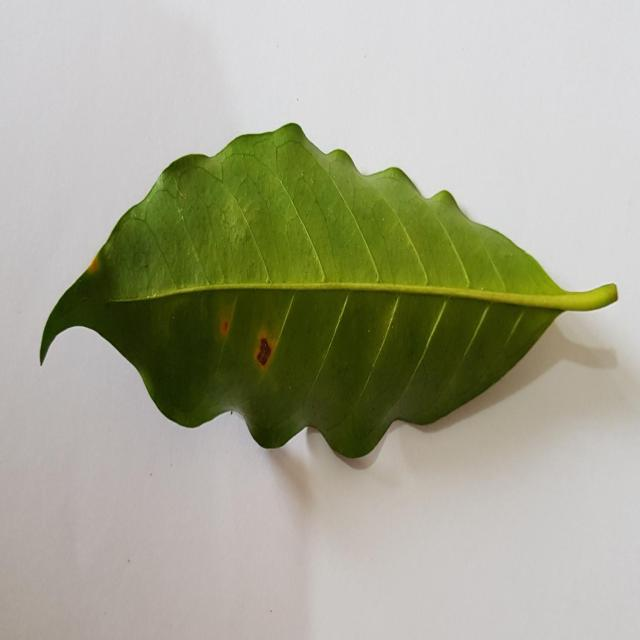Enfermedad-Mancha-de-hierro: (38, 124, 618, 469)
